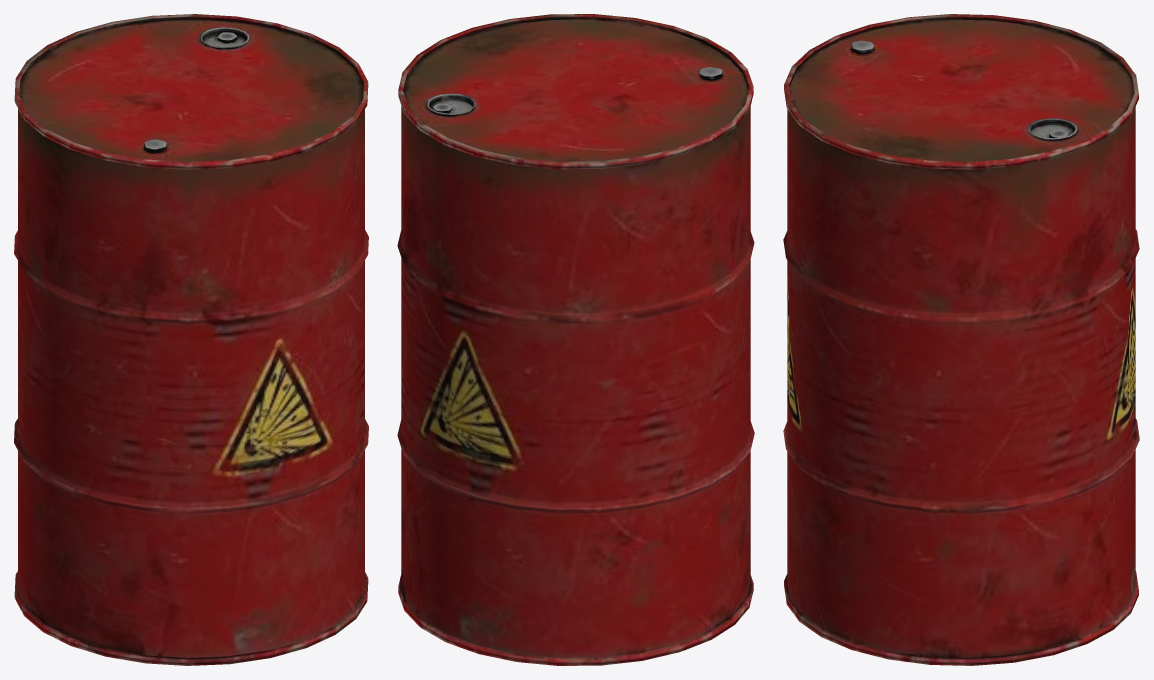
File: Barrel_01.glb
3 views of the same model, side by side, from view 1: azimuth 30°, elevation 25°; view 2: azimuth 150°, elevation 25°; view 3: azimuth 270°, elevation 25° (orthographic).
Parts seen in each view (by area): view 1: Barrel_01; view 2: Barrel_01; view 3: Barrel_01.
Boxes of the visible parts, x1,y1,x2,y2 form: Barrel_01: (14, 14, 368, 665); Barrel_01: (397, 14, 754, 665); Barrel_01: (783, 14, 1139, 665).
Bounding box in the file's own units: 0.5627 × 0.8789 × 0.5627.
Materials: 1 (1 with a texture image).
